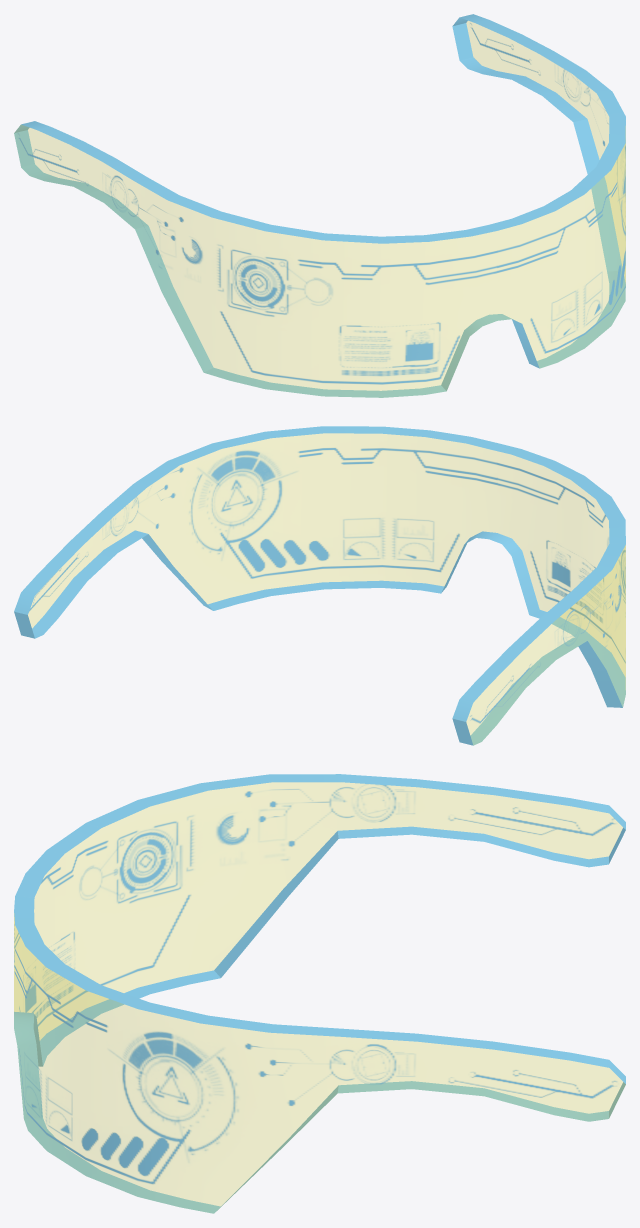
3 views of the same model, one above another, from view 1: azimuth 30°, elevation 25°; view 2: azimuth 150°, elevation 25°; view 3: azimuth 270°, elevation 25° (orthographic). The views are drawn at different scales.
Visible parts, largest first — view 1: Wolf3D_Glasses; view 2: Wolf3D_Glasses; view 3: Wolf3D_Glasses.
Boxes of the visible parts, x1,y1,x2,y2 form: Wolf3D_Glasses: (14, 14, 625, 397); Wolf3D_Glasses: (14, 426, 625, 745); Wolf3D_Glasses: (14, 774, 625, 1213).
Bounding box in the file's own units: 0.1663 × 0.0559 × 0.1637.
Materials: 1 (1 with a texture image).
